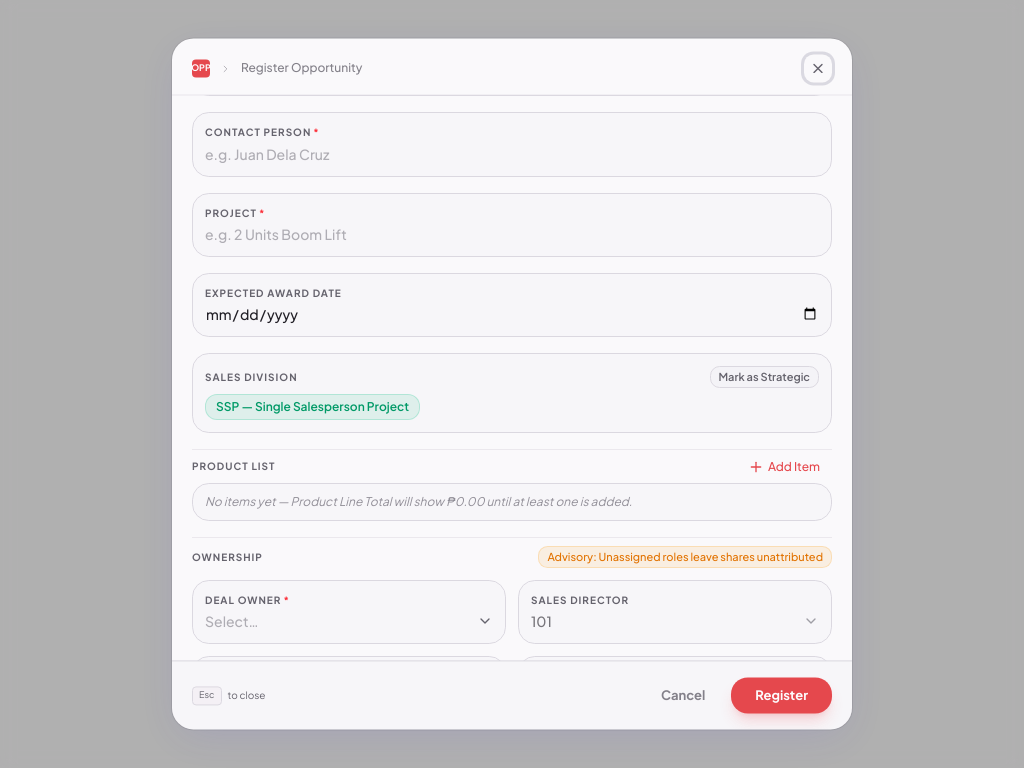
Scenario: OpportunityFormModal — Project Type Auto-derivation & Strategic Toggle › shows Closing Salesperson selector and Deal Owner / Originator label when Strategic
(page scrolled)
Expected: the text "101" is shown, [531,612,552,632]
Expected: the text "Closing Salesperson" is not shown
Click the button "Mark as Strategic". click: (764, 378)
box: [710,367,819,388]
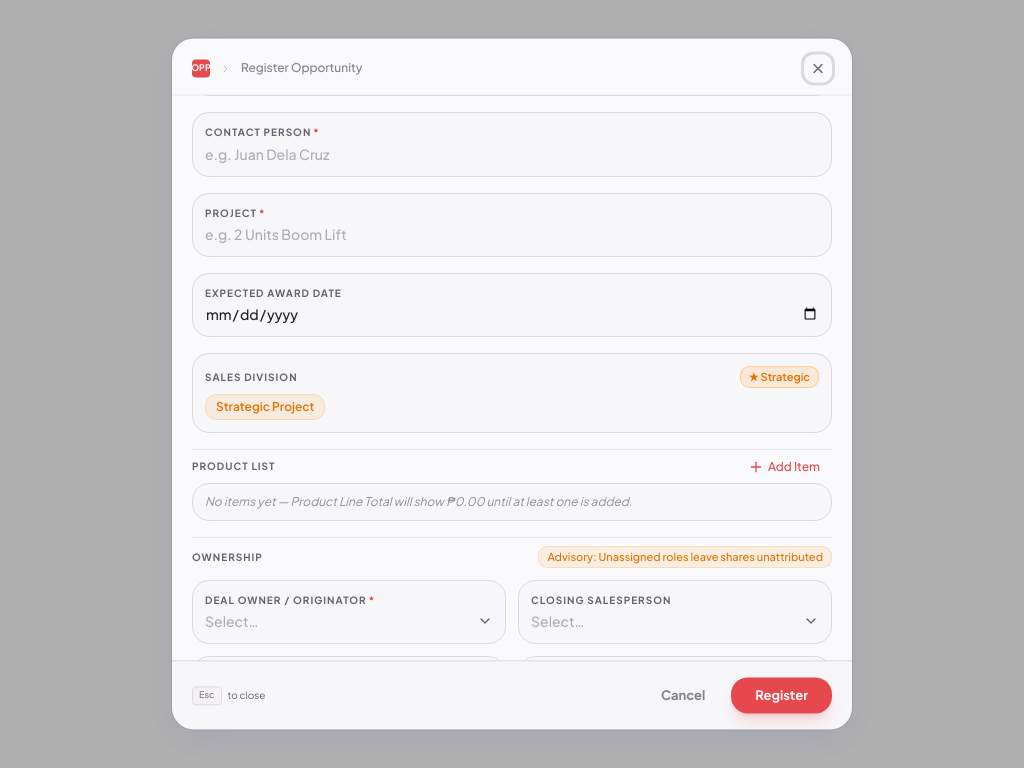
Expected: the text "Closing Salesperson" is shown, [531,594,671,606]
Expected: the text "Deal Owner / Originator" is shown, [205,594,367,606]
